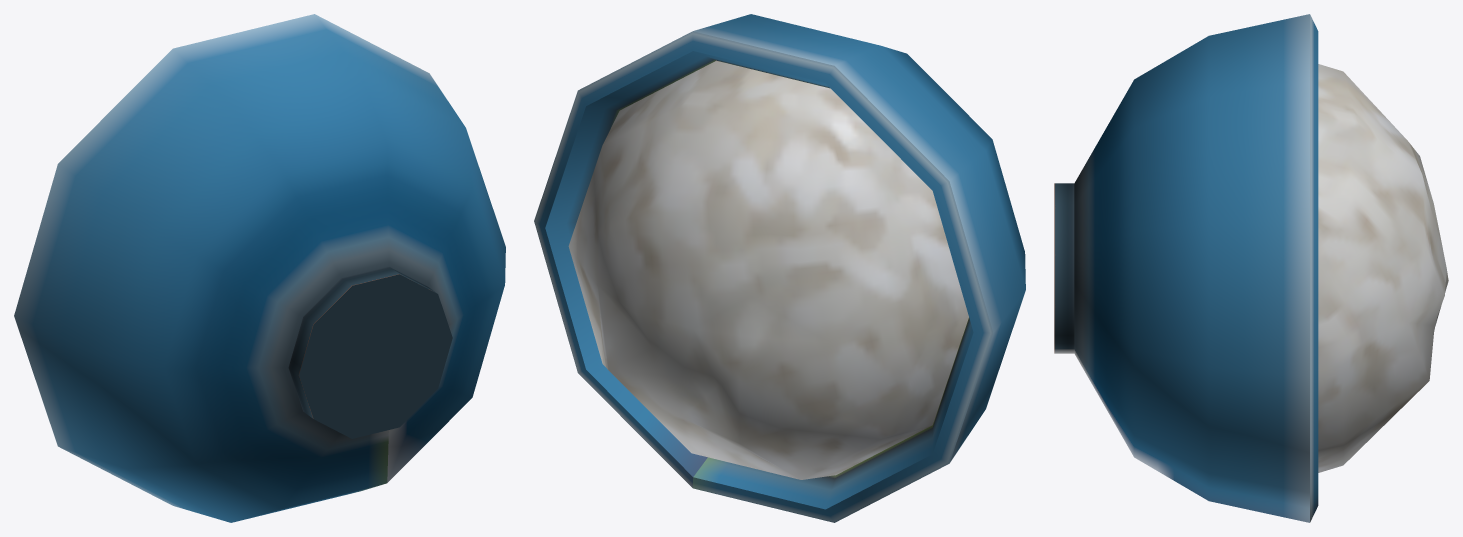
The model's file is Rice_Bowl.fbx.
The picture shows the model from 3 angles, left to right: view 1: azimuth 30°, elevation 25°; view 2: azimuth 150°, elevation 25°; view 3: azimuth 270°, elevation 25°; orthographic projection. The views are drawn at different scales.
Visible parts, largest first — view 1: Rice_Bowl; view 2: Rice_Bowl; view 3: Rice_Bowl.
Boxes of the visible parts, box(x1,y1,x2,y2) form: Rice_Bowl: box(14, 14, 505, 522); Rice_Bowl: box(534, 14, 1025, 522); Rice_Bowl: box(1054, 14, 1448, 522).
Bounding box in the file's own units: 10.83 × 8.33 × 10.3.
